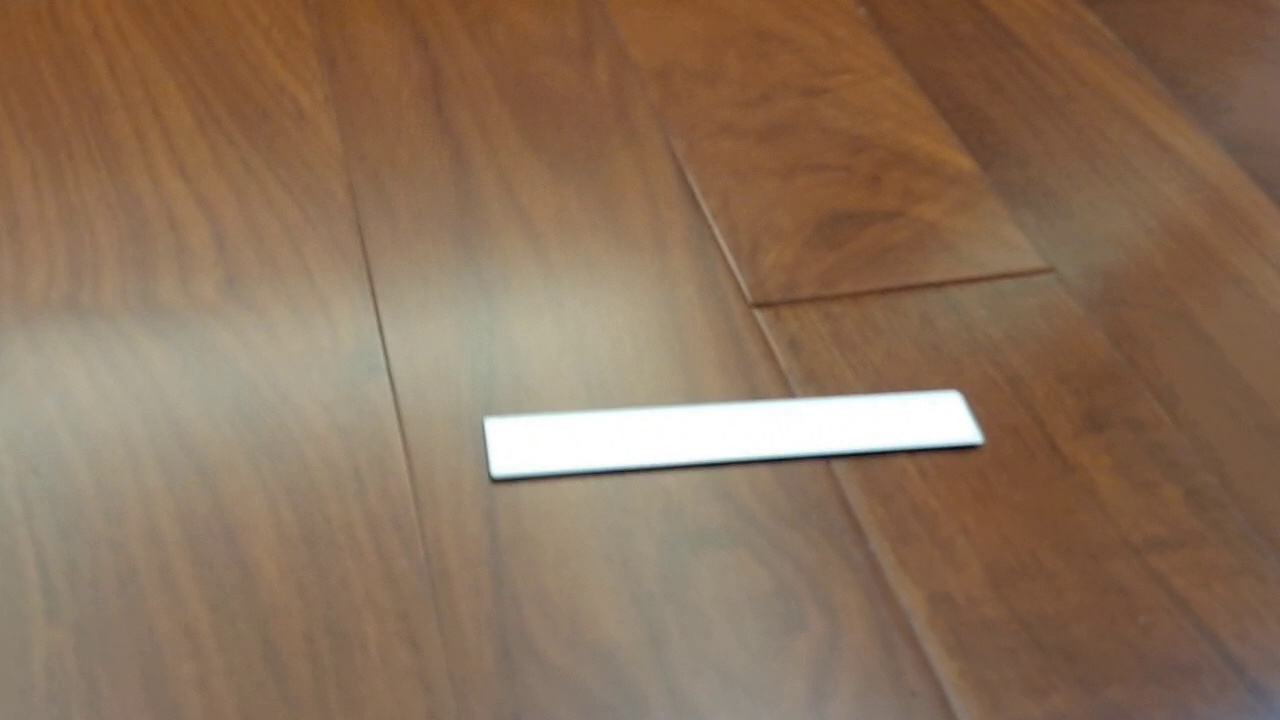ruler: (482, 387, 988, 482)
